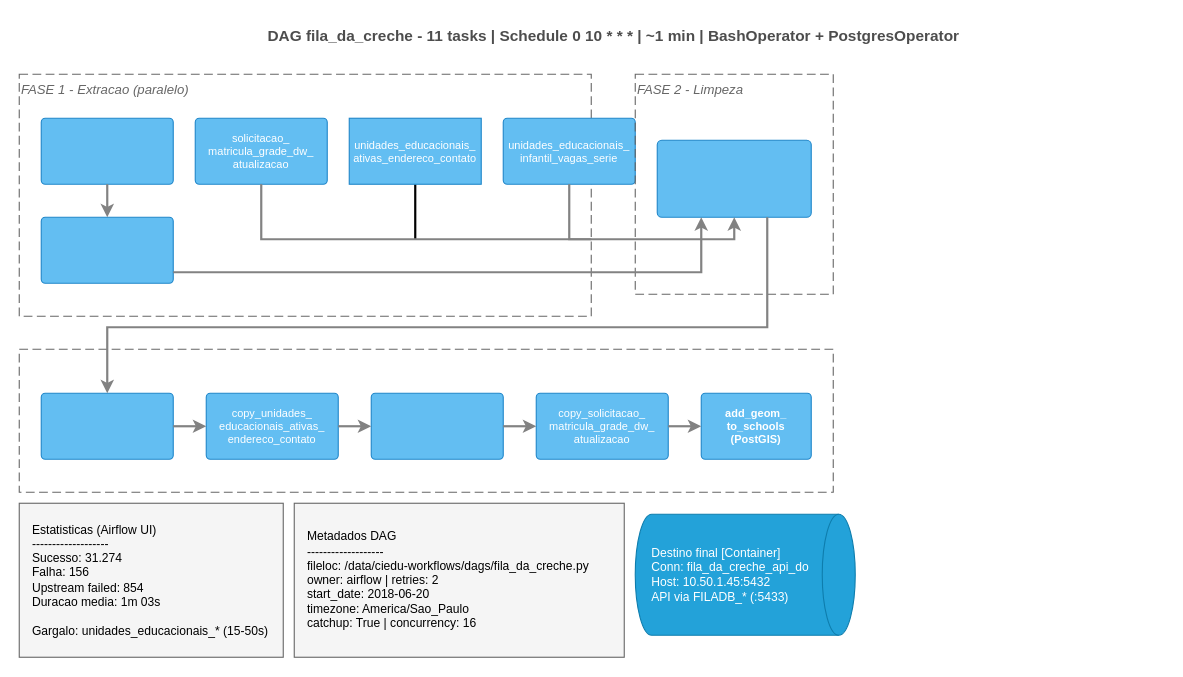
The diagram is 1183 pixels wide and 677 high, and some of its shapes have lost their labels. The box of each missing label's shape, as (x1, y1, x2, y2) in pixels:
copy_solicitacao_ matricula_grade_dw: (370, 392, 503, 459)
copy_unidades_ educacionais_infantil_ vagas_serie: (40, 392, 173, 459)
FASE 3 - Carga (sequencial): (18, 348, 833, 492)
solicitacao_ matricula_grade_dw [Component]: (40, 117, 173, 184)
truncate_fila_ da_creche_tables: (656, 139, 811, 217)
unidades_educacionais_ infantil_vagas_serie_v2: (40, 216, 173, 283)
